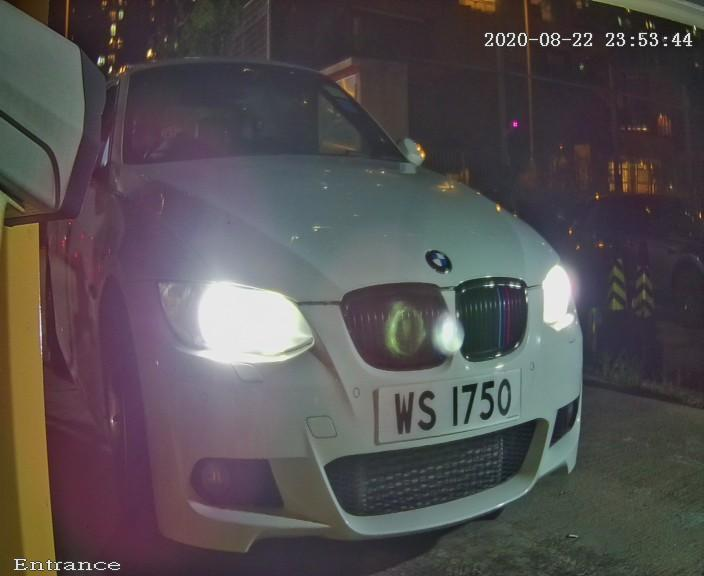Car: (35, 3, 635, 576)
License Plate: (353, 328, 548, 469)
